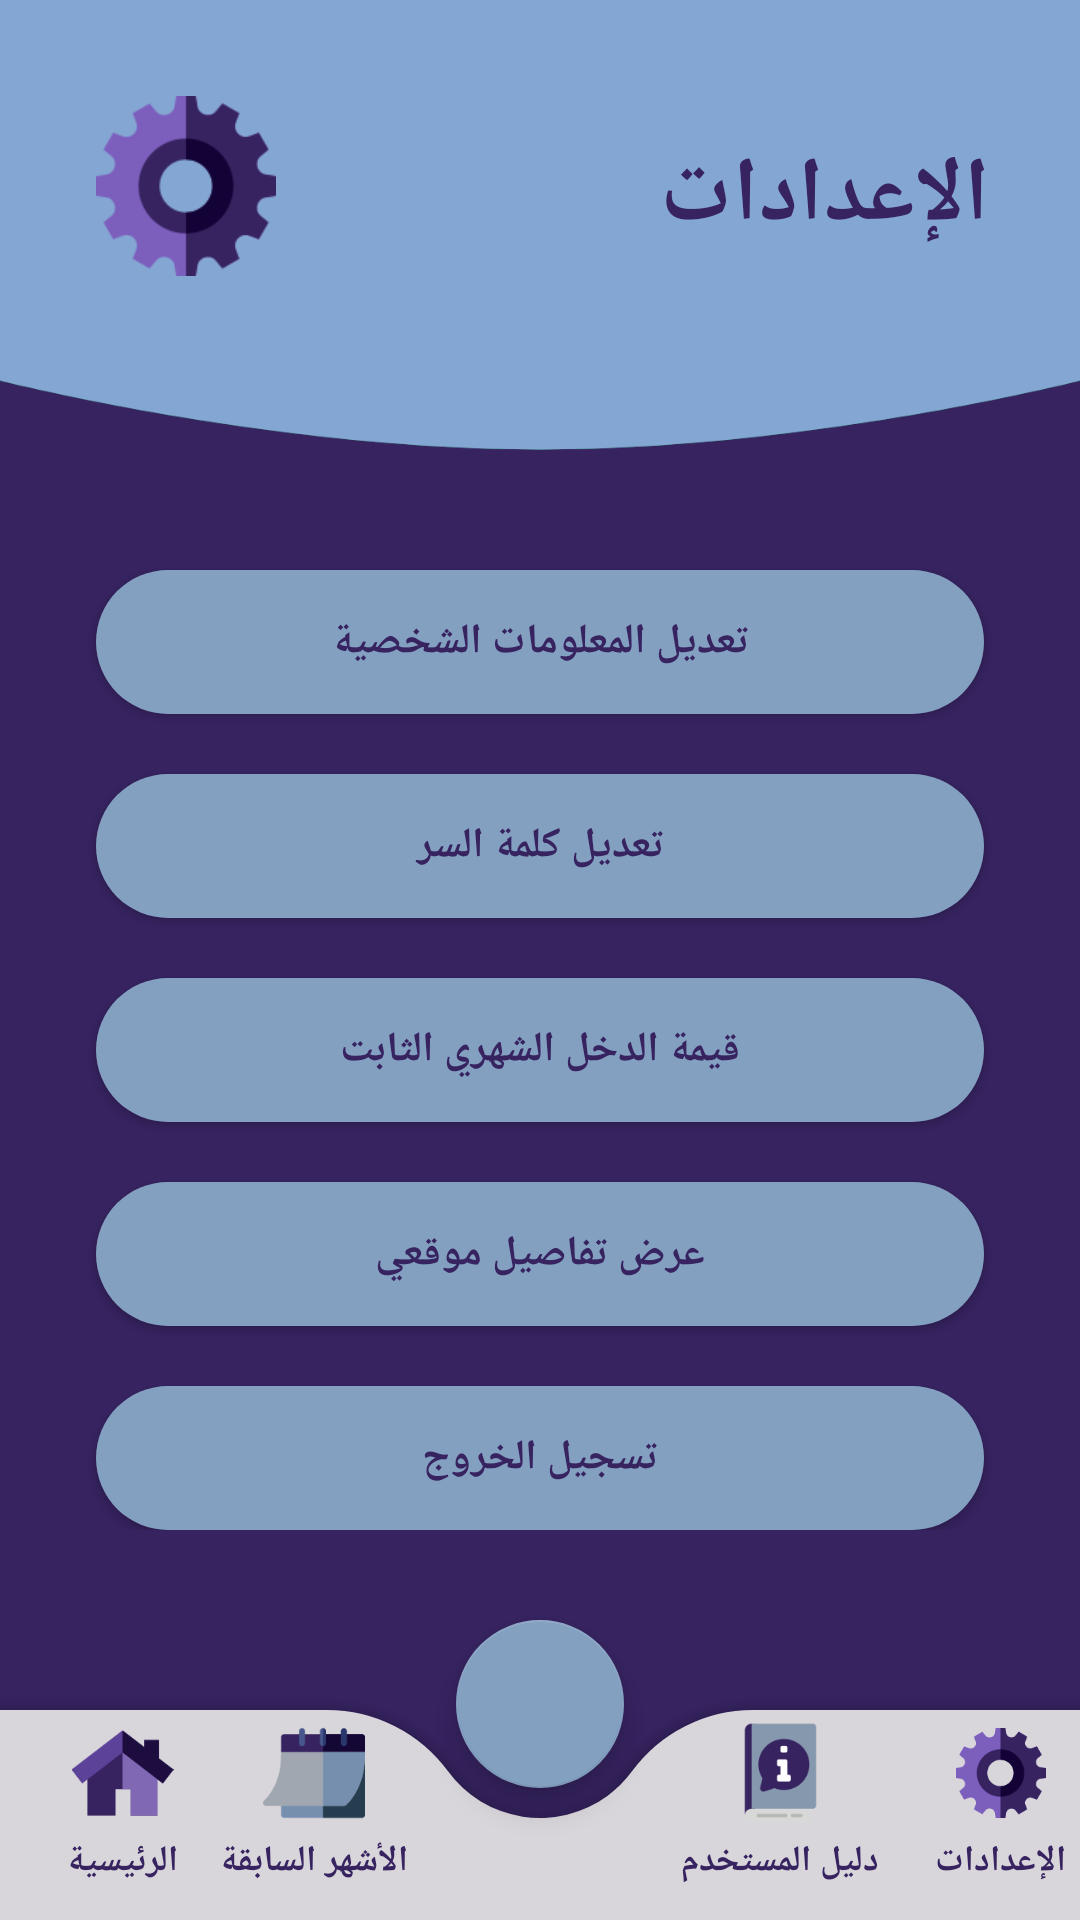

Where to tap for icons on this 1080 x 1920 app screen, as [x,y]:
calendar masroofe: [314,1773]
